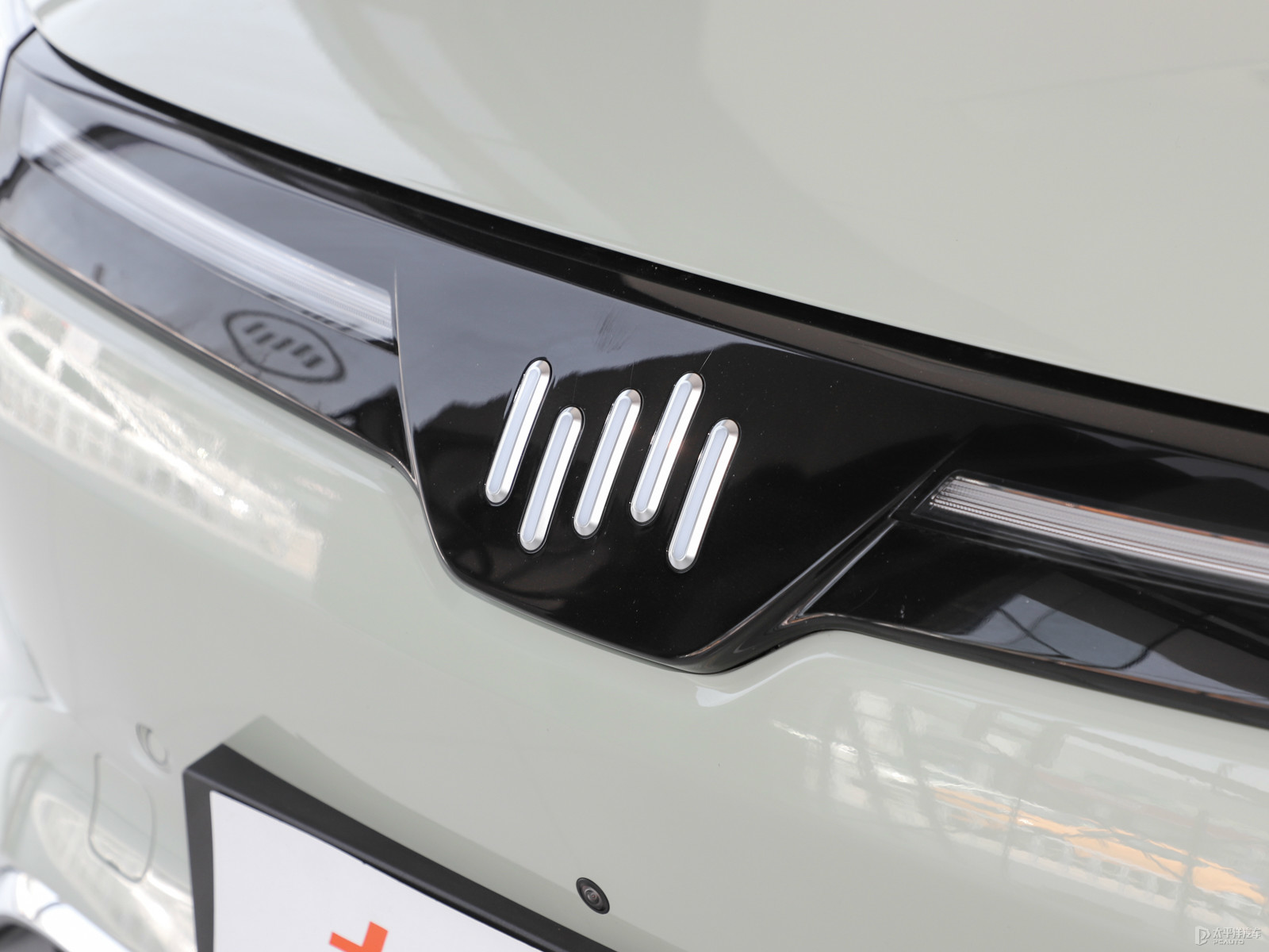WELTMEISTER: (486, 361, 738, 569)
